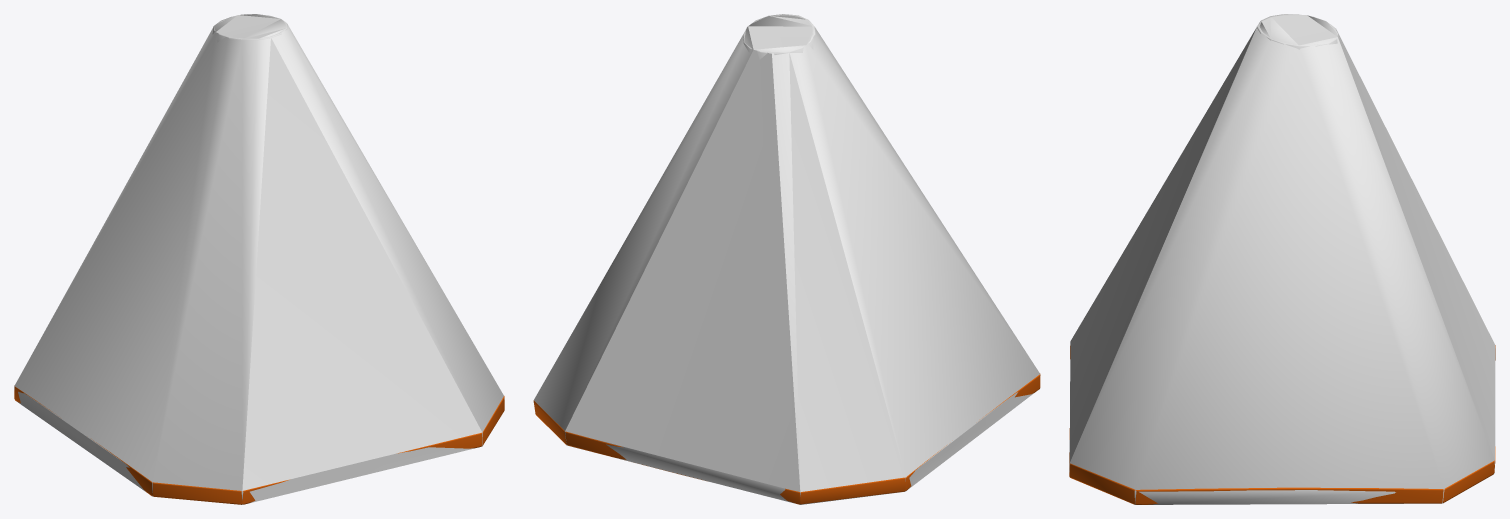
File: warn_cone.fbx
3 renders of one model, left to right at view 1: azimuth 30°, elevation 25°; view 2: azimuth 150°, elevation 25°; view 3: azimuth 270°, elevation 25°, orthographic. The views are drawn at different scales.
Parts seen in each view (by area): view 1: c_warn_cone, warn_cone; view 2: c_warn_cone, warn_cone; view 3: c_warn_cone, warn_cone.
Part boxes in pixels (x1,y1,x2,y2): c_warn_cone: (14,14,504,504); warn_cone: (14,14,504,504); c_warn_cone: (533,14,1040,504); warn_cone: (533,14,1040,504); c_warn_cone: (1069,14,1495,504); warn_cone: (1069,14,1495,504).
Bounding box in the file's own units: 25.64 × 25.77 × 25.41.
